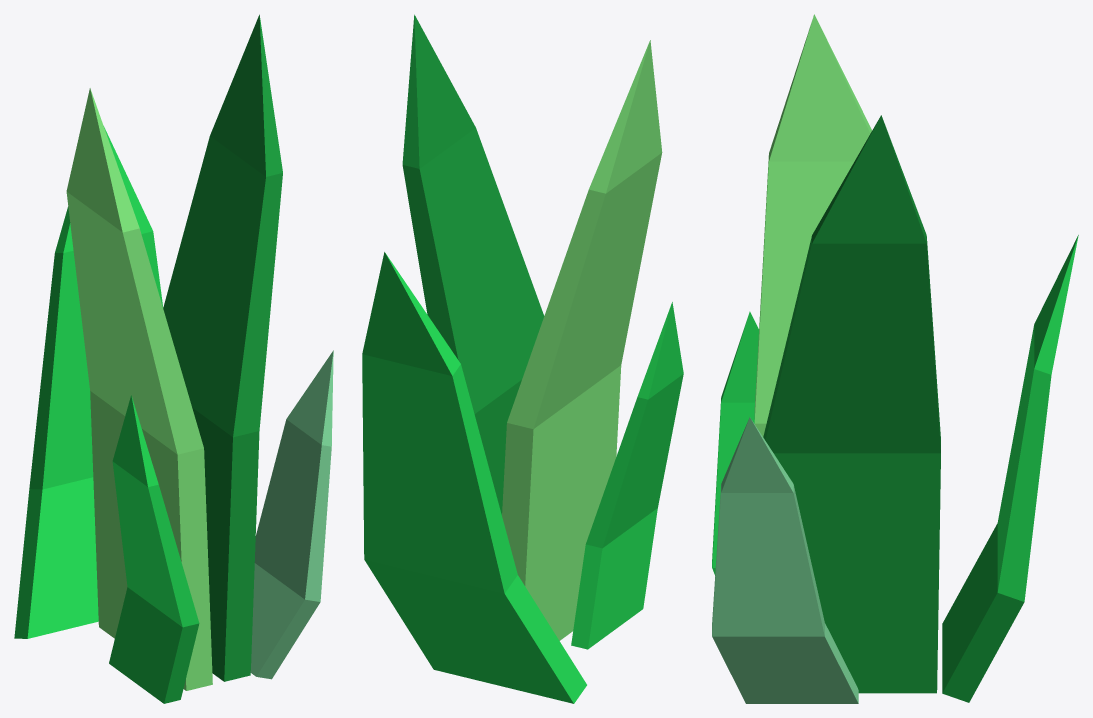
Rendered from grass.fbx.
3 views of the same model, side by side, from view 1: azimuth 30°, elevation 25°; view 2: azimuth 150°, elevation 25°; view 3: azimuth 270°, elevation 25° (orthographic). The views are drawn at different scales.
Visible parts, largest first — view 1: Cube.001, Cube, Cube.004, Cube.003, Cube.002; view 2: Cube.004, Cube, Cube.001, Cube.002; view 3: Cube.001, Cube.003, Cube, Cube.004, Cube.002.
Part boxes in pixels (box(x1,y1,x2,y2)): Cube.001: box(163, 14, 282, 681); Cube: box(66, 88, 212, 690); Cube.004: box(14, 126, 163, 638); Cube.003: box(250, 350, 333, 679); Cube.002: box(109, 395, 199, 703); Cube.004: box(362, 252, 586, 703); Cube: box(502, 40, 662, 640); Cube.001: box(402, 14, 544, 514); Cube.002: box(571, 302, 683, 649); Cube.001: box(763, 115, 940, 693); Cube.003: box(712, 417, 858, 703); Cube: box(754, 14, 872, 436); Cube.004: box(942, 235, 1078, 702); Cube.002: box(712, 311, 758, 575).
Size of the model in its own units: 280 by 765 by 411.
